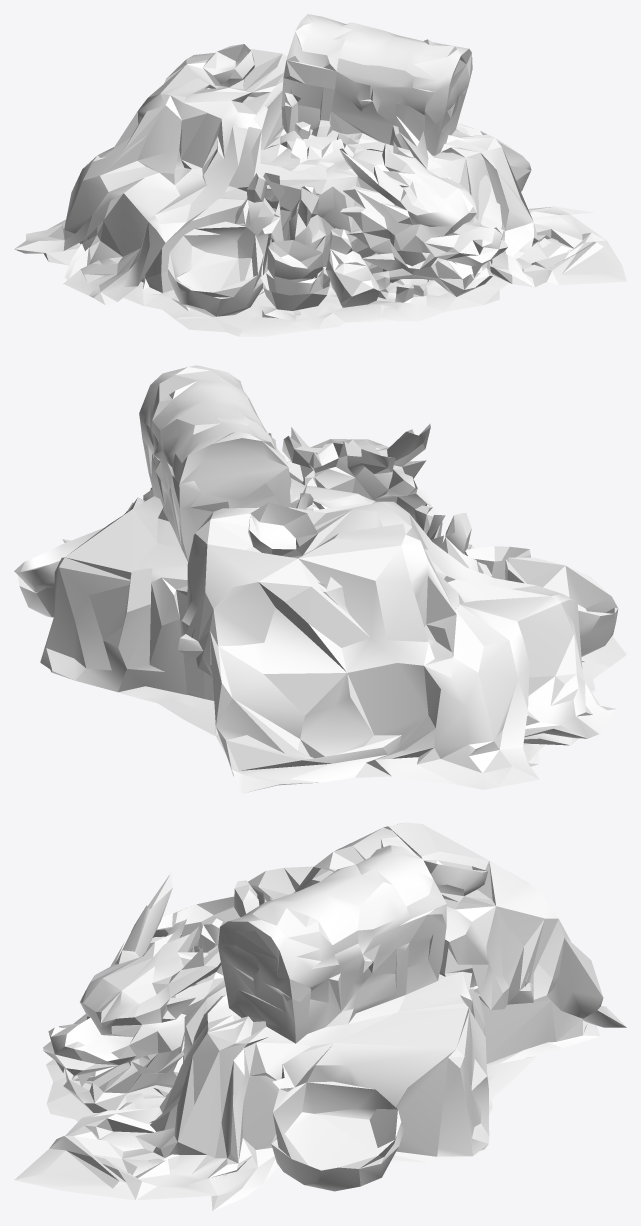
The model's file is loot_pile.glb.
3 renders of one model, top to bottom at view 1: azimuth 30°, elevation 25°; view 2: azimuth 150°, elevation 25°; view 3: azimuth 270°, elevation 25°, orthographic. The views are drawn at different scales.
Parts seen in each view (by area): view 1: loot_pile; view 2: loot_pile; view 3: loot_pile.
Boxes of the visible parts, bbox=[...] form: loot_pile: bbox=[14, 14, 626, 336]; loot_pile: bbox=[14, 365, 626, 793]; loot_pile: bbox=[14, 822, 626, 1210].
Bounding box in the file's own units: 2.86 × 1.1 × 2.57.
Materials: 1 (1 with a texture image).
